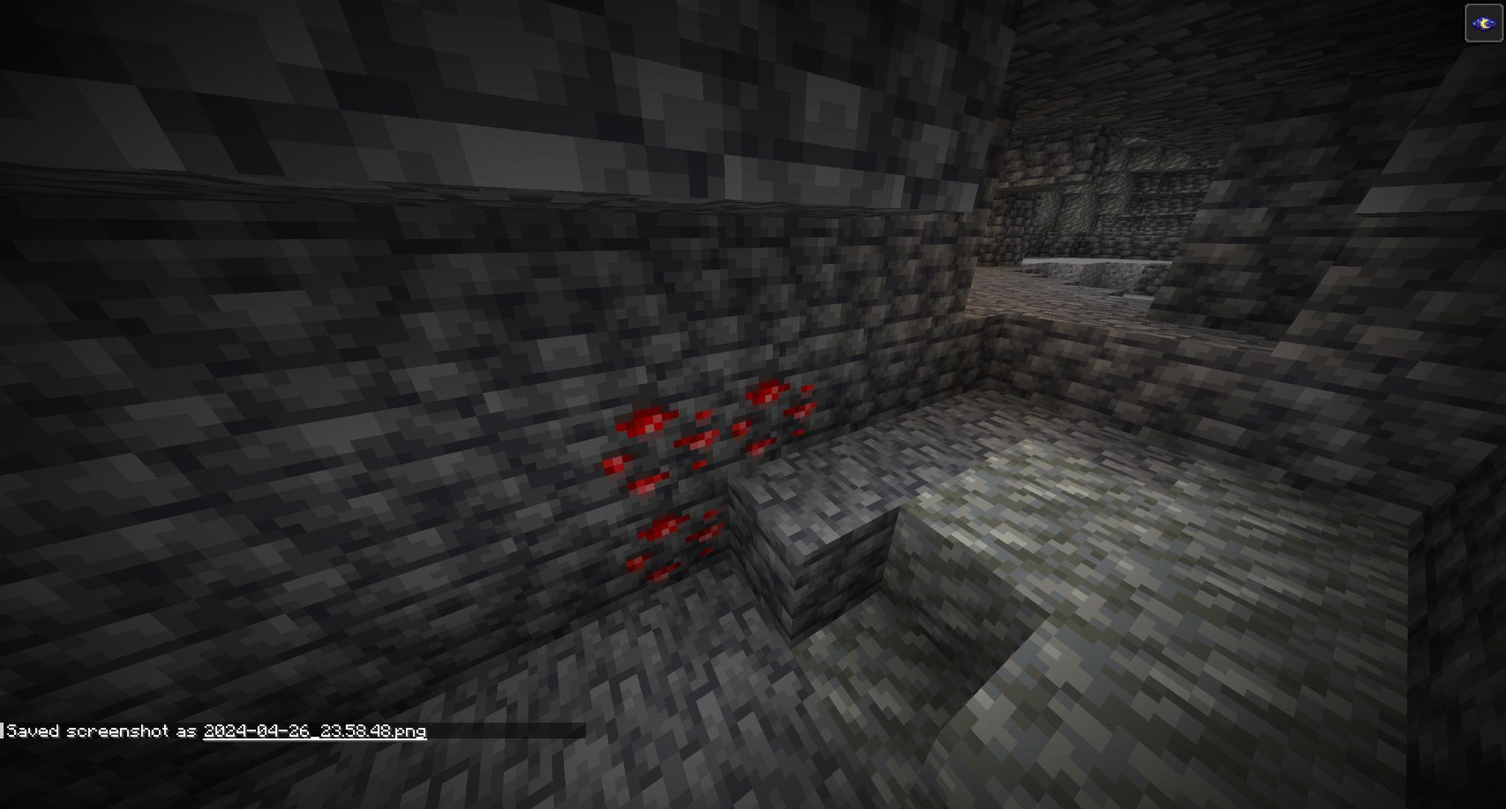redstone ore: (605, 401, 723, 488), (624, 503, 728, 582), (733, 375, 817, 456)
